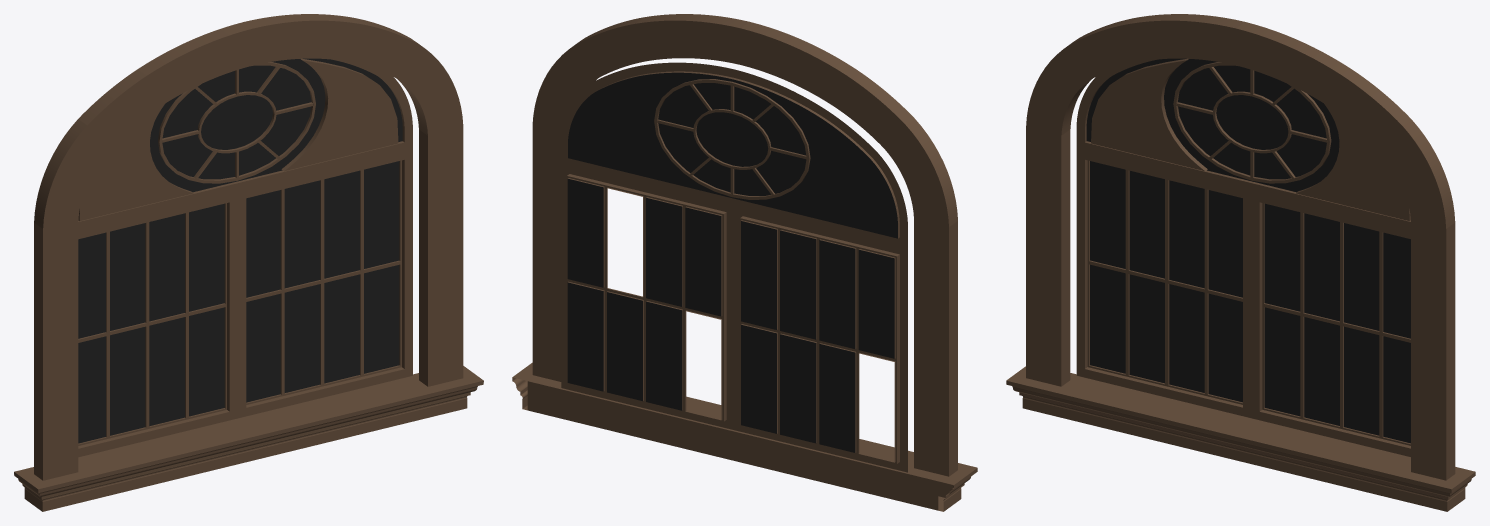
The picture shows the model from 3 angles, left to right: view 1: azimuth 30°, elevation 25°; view 2: azimuth 150°, elevation 25°; view 3: azimuth 330°, elevation 25°; orthographic projection.
Parts seen in each view (by area): view 1: Shape450, Shape451, Box927, Line16533, Line16534, Circle003; view 2: Shape450, Shape451, Box927, Circle003; view 3: Shape450, Shape451, Box927, Line16534, Line16533, Circle003.
Boxes of the visible parts, x1,y1,x2,y2 form: Shape450: (78,58,412,457); Shape451: (34,14,463,480); Box927: (14,366,483,511); Line16533: (281,58,398,171); Line16534: (78,104,193,221); Circle003: (158,62,315,183); Shape450: (561,62,907,472); Shape451: (532,14,957,476); Box927: (512,362,977,511); Circle003: (654,79,810,199); Shape450: (1076,58,1410,456); Shape451: (1026,14,1455,480); Box927: (1006,366,1475,511); Line16534: (1091,58,1207,171); Line16533: (1296,103,1410,220); Circle003: (1173,62,1331,183).
Bounding box in the file's own units: 284 × 262 × 29.02.
